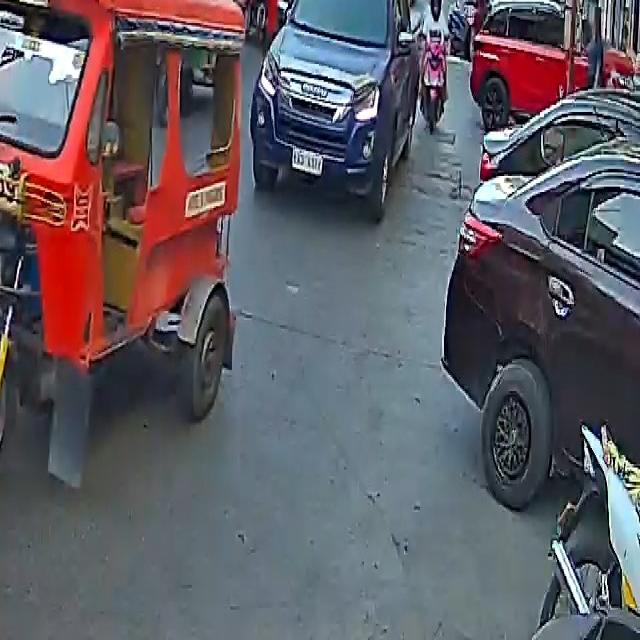car: (444, 103, 640, 517), (253, 0, 433, 215), (470, 0, 637, 132)
